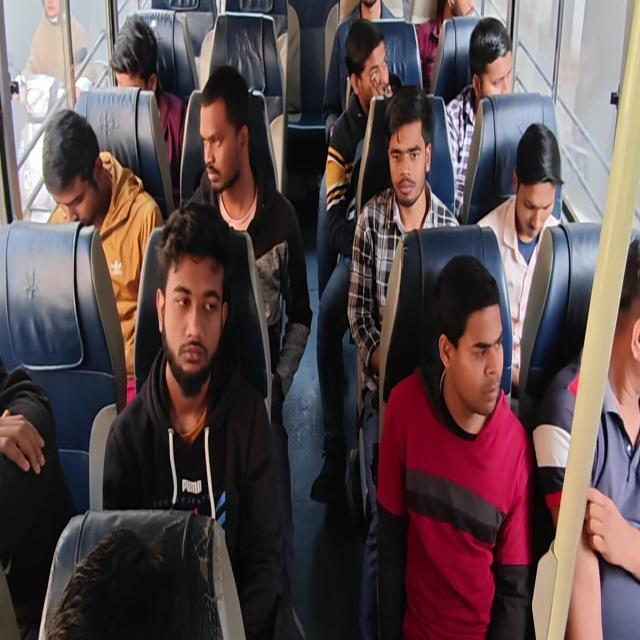person: (2, 1, 638, 638), (100, 200, 296, 638), (182, 64, 313, 615), (346, 84, 460, 637), (375, 254, 535, 638), (310, 18, 402, 504), (532, 235, 640, 639), (42, 108, 165, 405), (474, 121, 566, 407), (0, 354, 76, 638), (46, 526, 187, 639), (109, 14, 186, 204), (10, 0, 97, 160), (445, 17, 513, 220), (322, 0, 406, 146), (413, 0, 480, 94)
